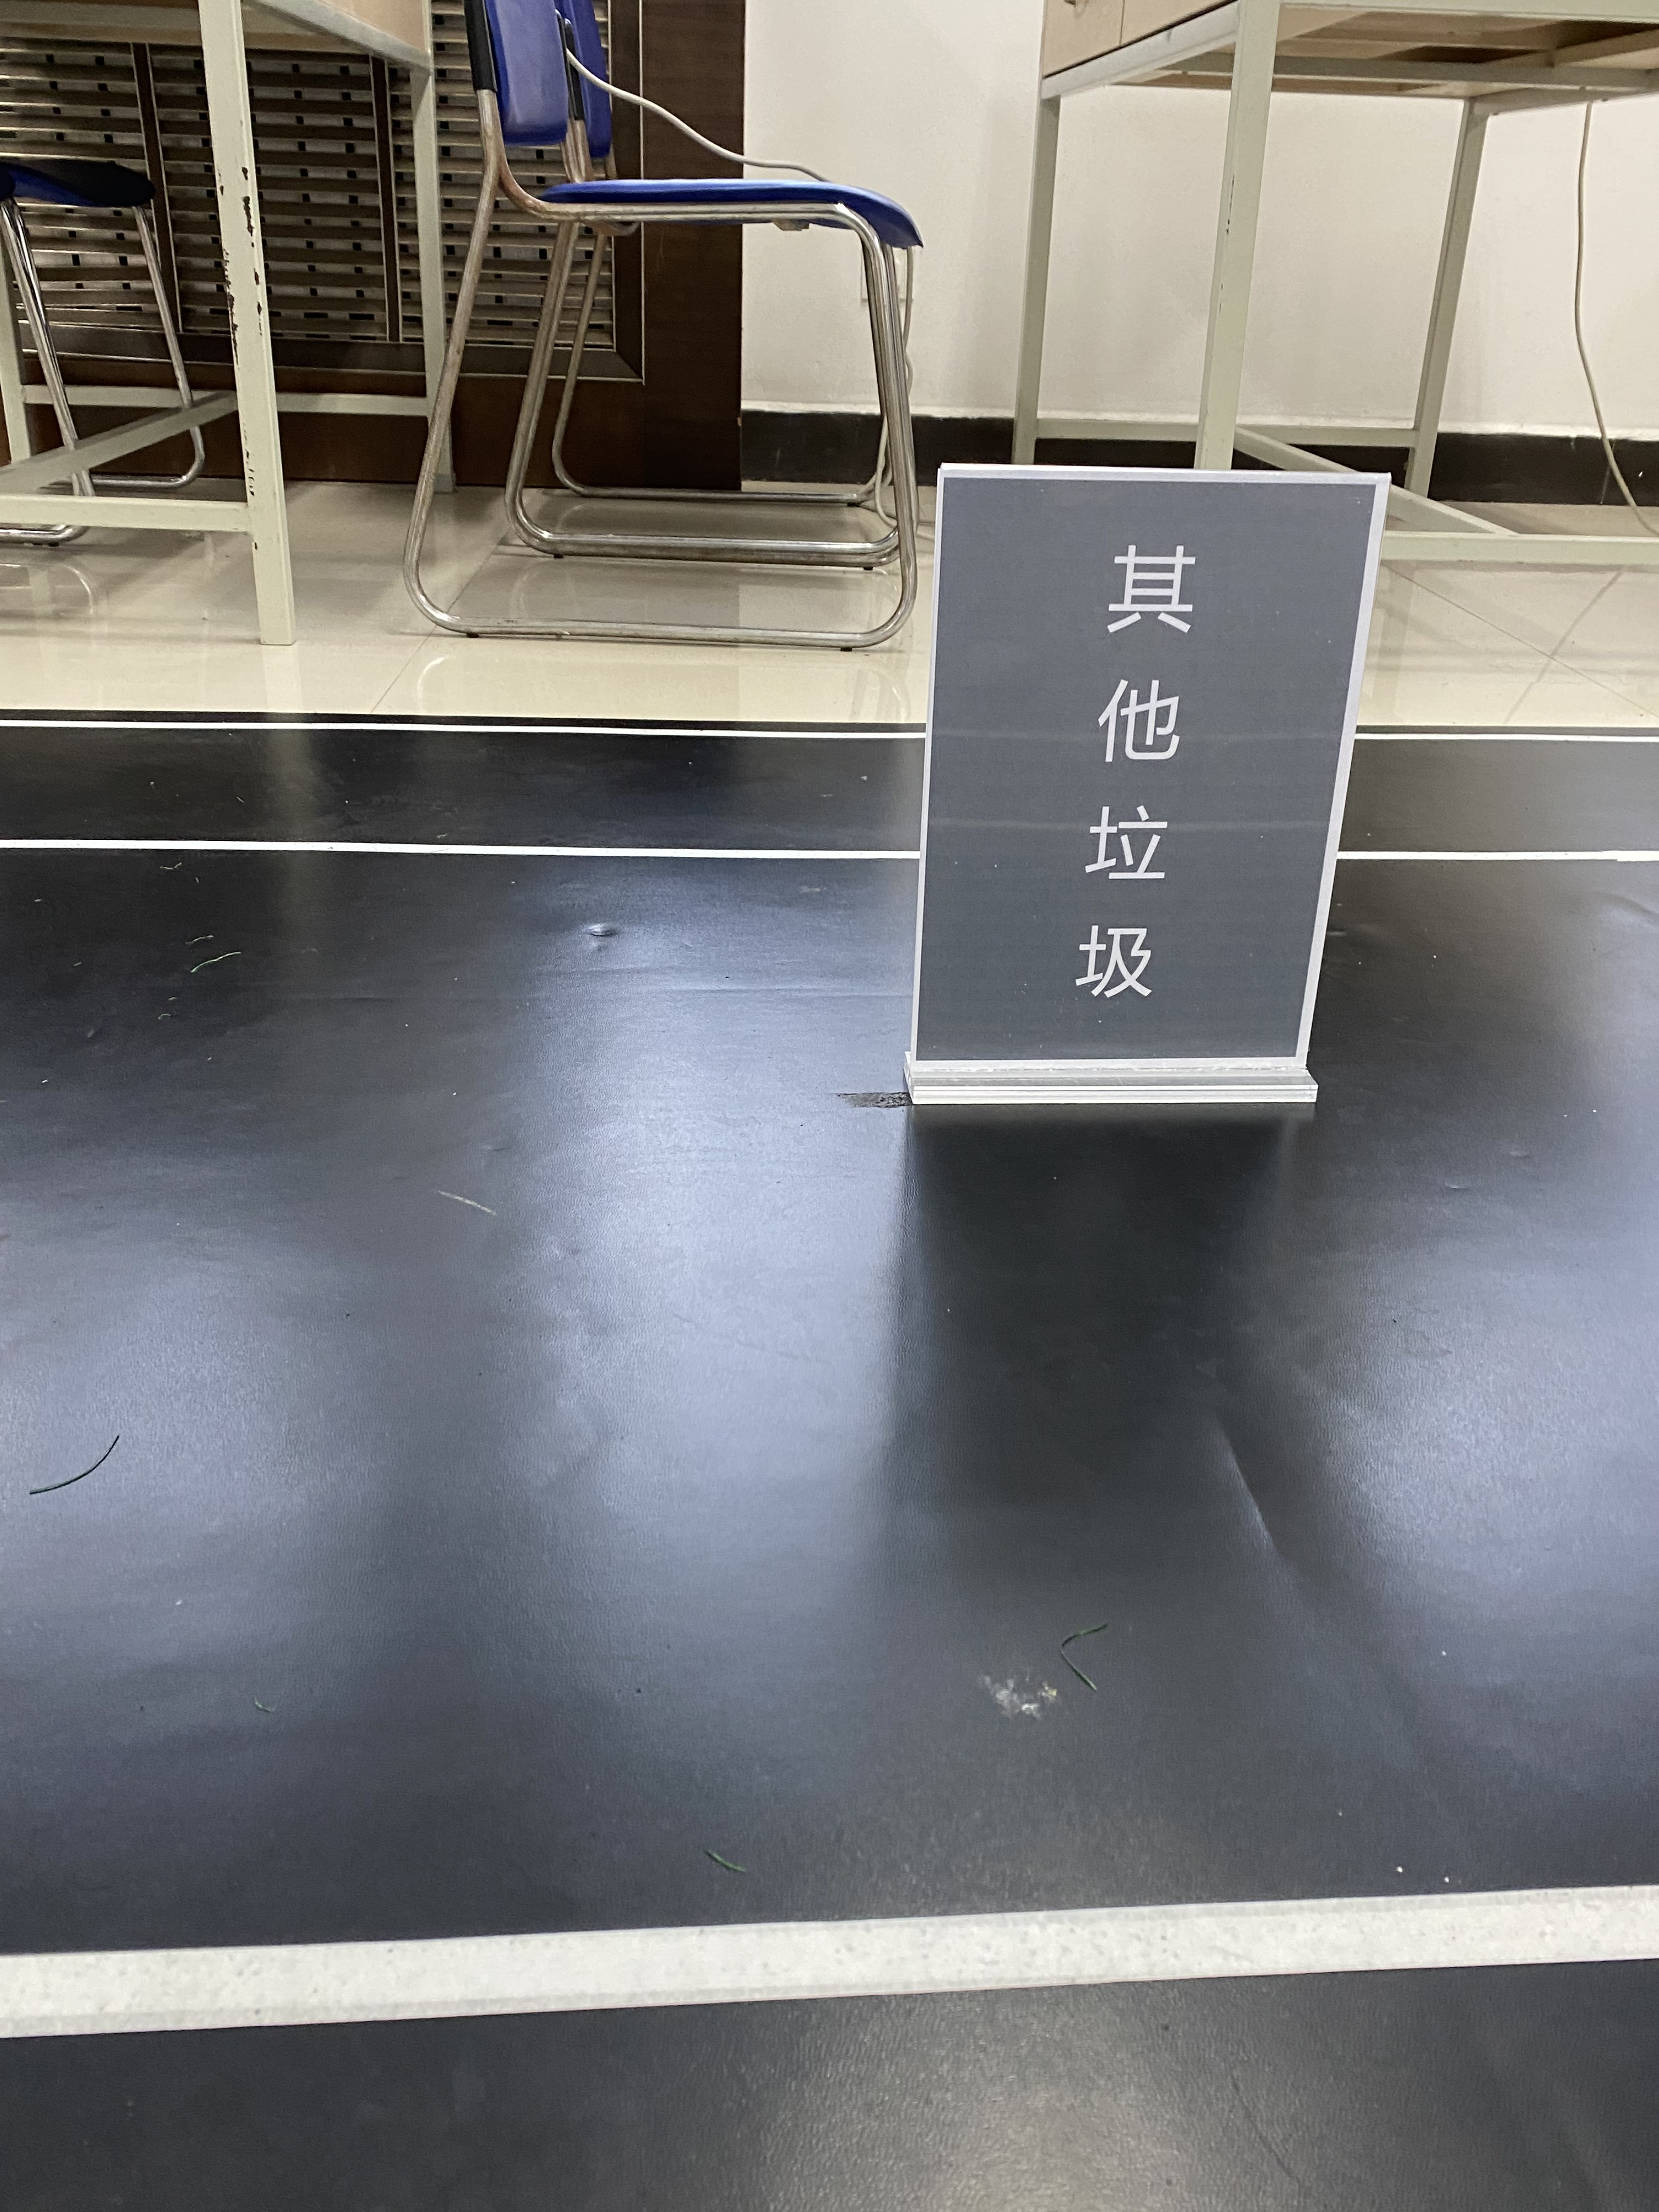black: (950, 488, 1305, 1043)
